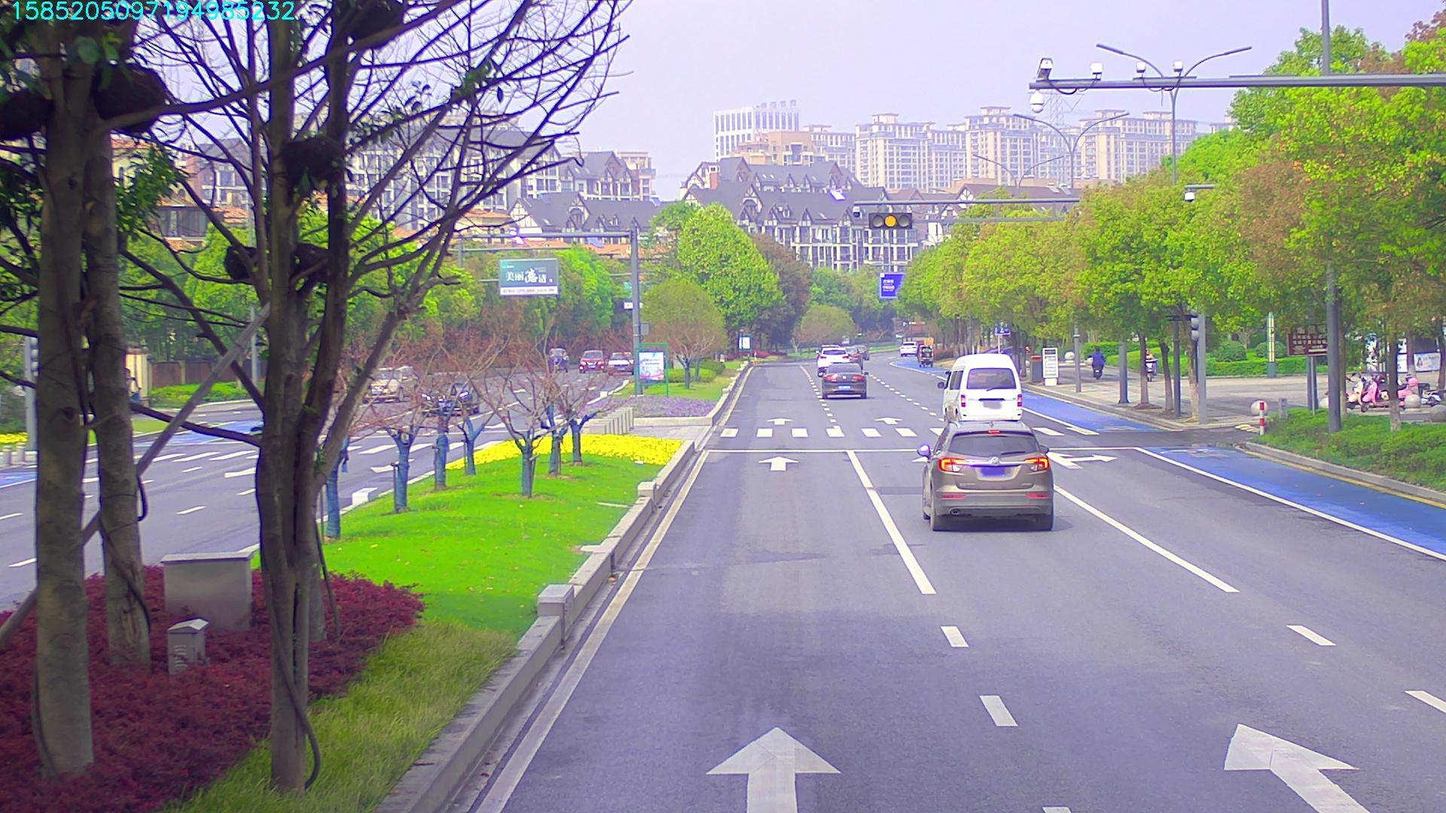yellow: (868, 211, 917, 229)
